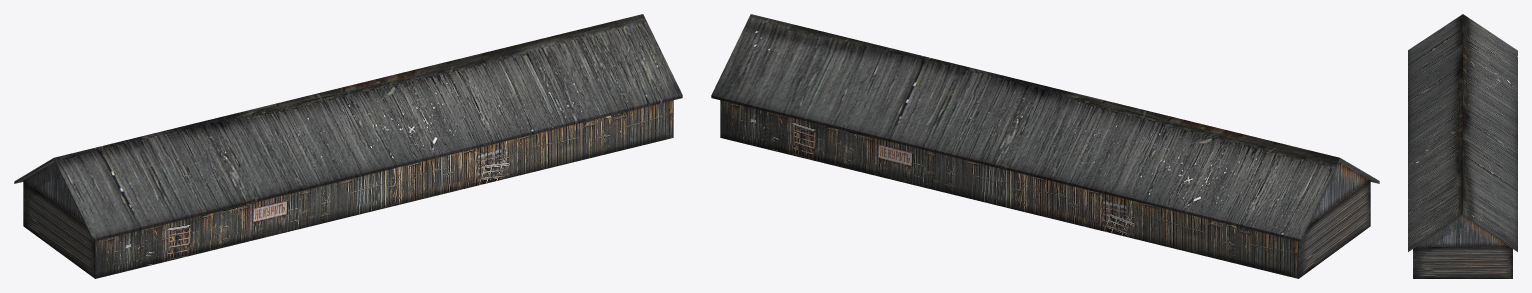
The model's file is d_sclad_18.FBX.
The picture shows the model from 3 angles, left to right: view 1: azimuth 30°, elevation 25°; view 2: azimuth 150°, elevation 25°; view 3: azimuth 270°, elevation 25°; orthographic projection. The views are drawn at different scales.
Parts seen in each view (by area): view 1: d_sclad_18; view 2: d_sclad_18; view 3: d_sclad_18.
Part boxes in pixels (x1,y1,x2,y2): d_sclad_18: [14, 14, 682, 278]; d_sclad_18: [711, 14, 1379, 278]; d_sclad_18: [1408, 14, 1517, 278].
Bounding box in the file's own units: 50.3 × 11.68 × 7.85.
